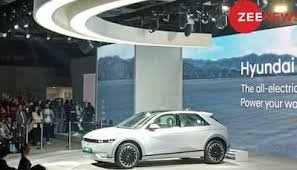Honda Ioniq: (78, 106, 235, 170)
